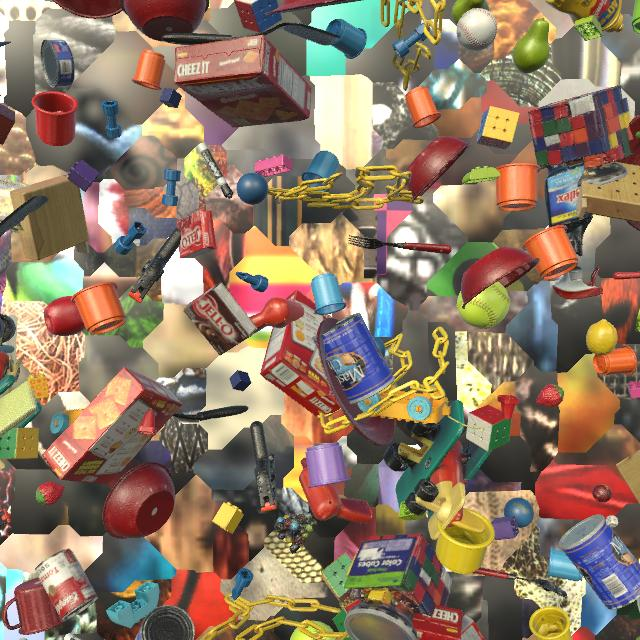ycb_002_master_chef_can: (558, 514, 640, 610), (312, 312, 395, 404), (135, 605, 195, 640), (637, 588, 640, 612)
ycb_003_cracker_box: (42, 367, 183, 484), (174, 35, 311, 128), (260, 289, 340, 419), (412, 605, 463, 640), (0, 94, 1, 96)
ycb_005_tomato_soup_can: (35, 548, 98, 622)
ycb_006_mustard_bottle: (545, 0, 624, 33)
ycb_007_tuna_fish_can: (41, 40, 75, 88)
ycb_008_pudding_box: (183, 282, 258, 356)
ycb_009_gelatin_box: (176, 209, 217, 259), (461, 614, 485, 640)
ycb_010_potted_meat_can: (0, 177, 31, 233)
ycb_012_strawberry: (36, 481, 65, 505), (536, 384, 564, 407), (631, 115, 640, 138)
ycb_013_apple: (44, 296, 86, 336)
ycb_014_lemon: (586, 319, 617, 355)
ycb_016_pear: (512, 17, 550, 74), (452, 0, 489, 25), (636, 636, 640, 640)
